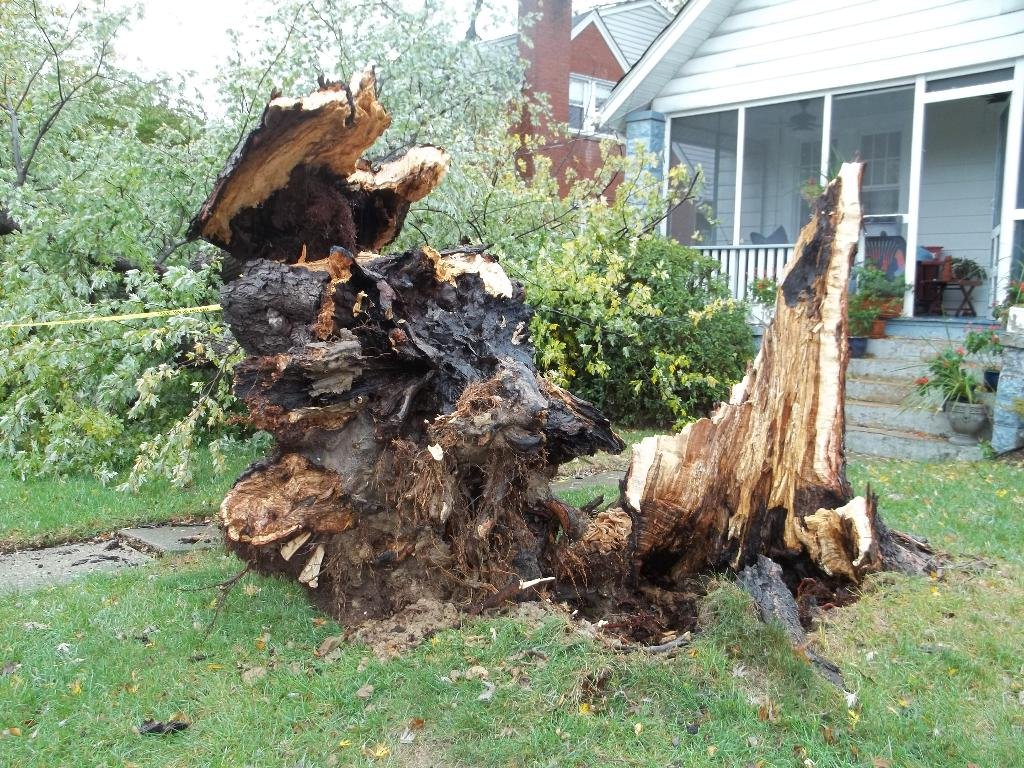Tree: (0, 0, 989, 701)
